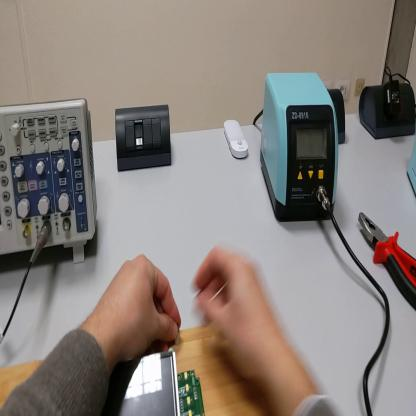hand: (192, 243, 280, 383), (94, 255, 183, 363)
low voltage board: (109, 351, 204, 414)
oscilloscope: (2, 99, 97, 263)
pliers: (359, 212, 416, 309)
socket: (359, 82, 416, 140), (329, 89, 346, 143)
welder base: (405, 142, 415, 195)
welder station: (260, 75, 339, 225)
working area: (1, 327, 269, 416)
